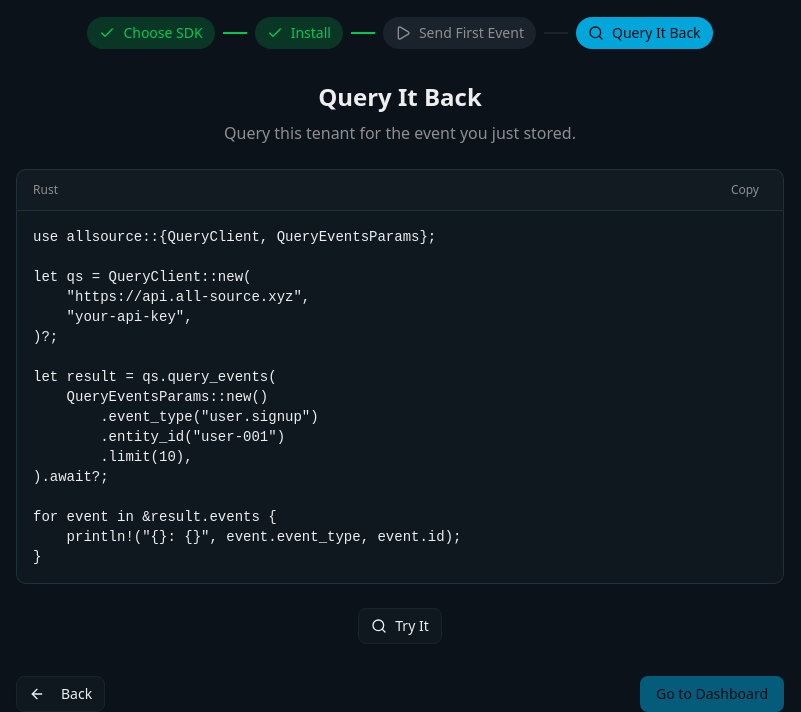
it: Try It button sends correct GET to /api/v1/events/query › shows query results
The width and height of the screenshot is (801, 712).
(page scrolled)
Click the button with test id "try-it-button" at x=400, y=626, box top-left (358, 608), bottom-right (442, 644)
(page scrolled)
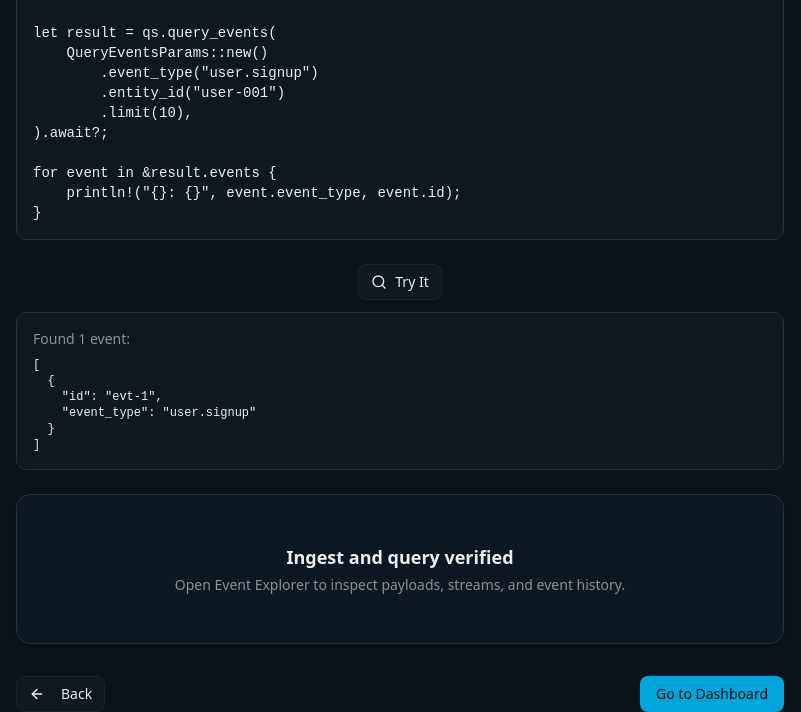
Now the element with test id "query-result" is shown, box top-left (16, 312), bottom-right (784, 470)
Now the text "Found 1 event:" is shown, box top-left (33, 329), bottom-right (130, 348)
Now the button with test id "go-to-dashboard-button" is enabled, box top-left (640, 676), bottom-right (784, 711)
